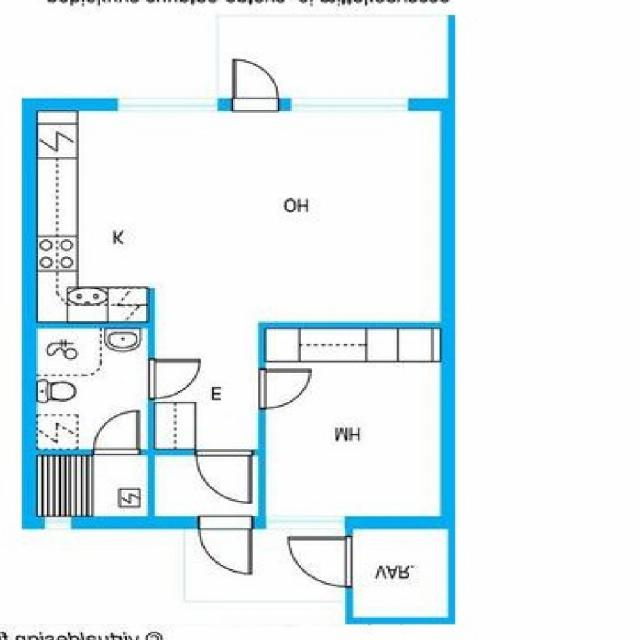door: (288, 536, 352, 586), (198, 516, 251, 574), (196, 449, 251, 501), (232, 58, 278, 110), (148, 358, 202, 398), (258, 368, 311, 408), (94, 410, 140, 454)
